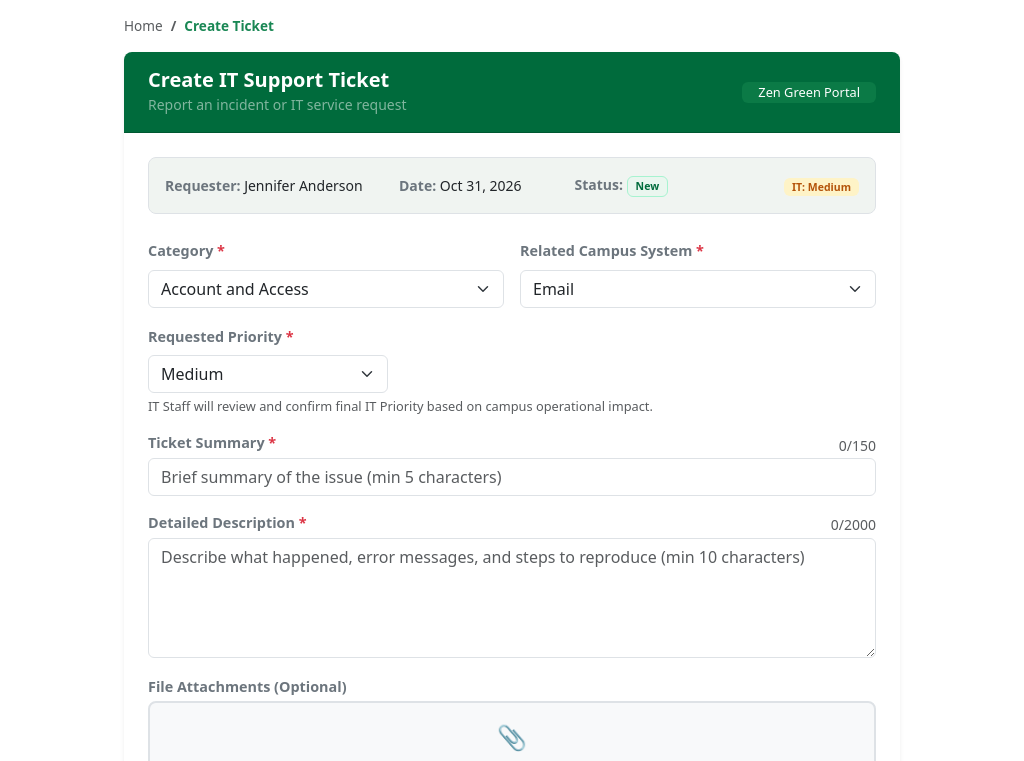
Test case: CreateTicket Component Tests (UI-02, UI-03, UI-04) › successfully creates a ticket and renders the official ticket number view
Expected: the dropdown showing "Account and Access" is shown, left=148, top=270, right=504, bottom=308
Type "Keyboard not working properly" into the field with test id "summary-input".
click(512, 477); type("Keyboard not working properly")  # box left=148, top=458, right=876, bottom=496
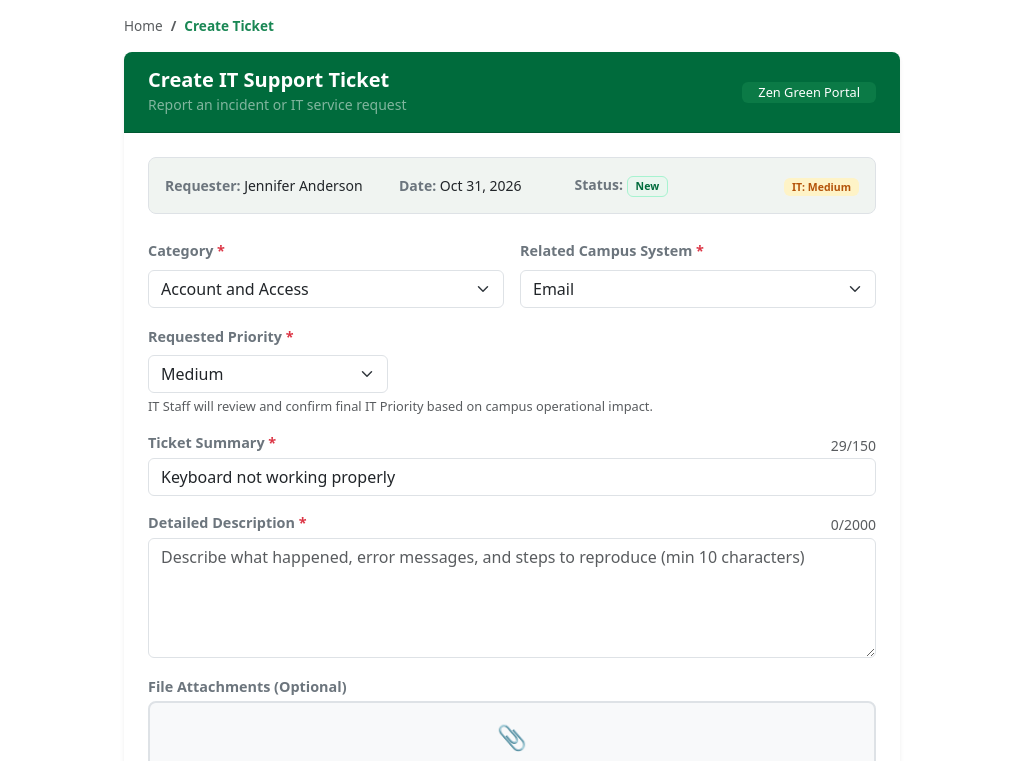
Replace the text in the text box with test id "description-input" with "Keys are sticking and unresponsive." at (512, 598), box left=148, top=538, right=876, bottom=658
(page scrolled)
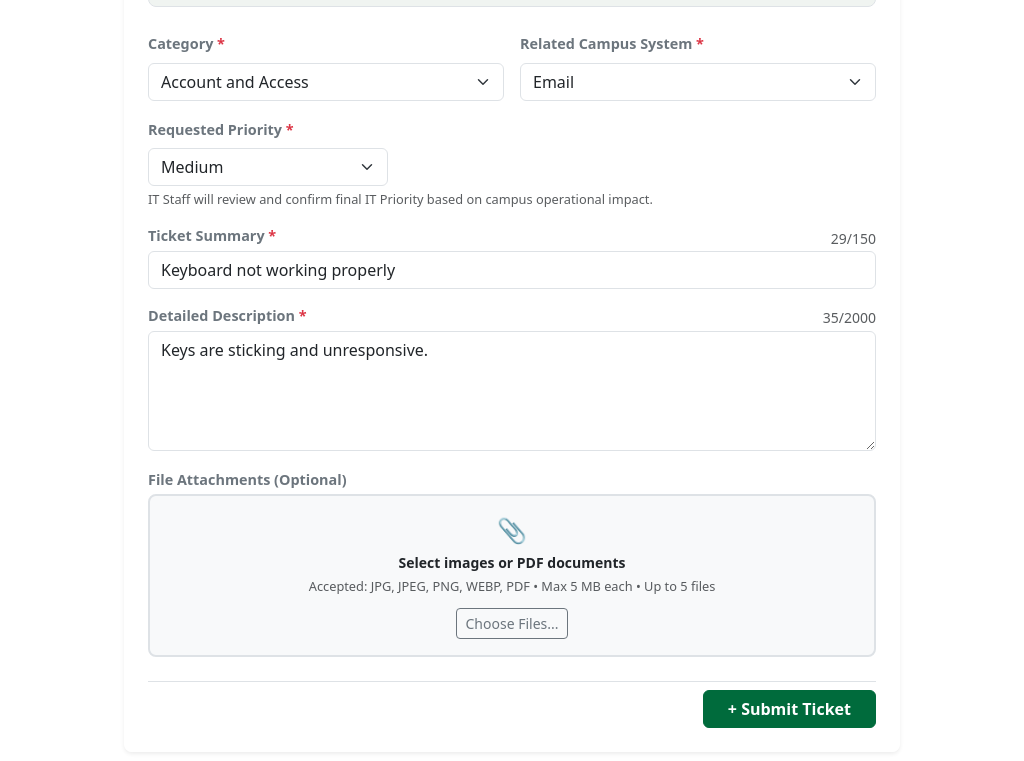
Click the button with test id "submit-ticket-btn".
click(789, 709)  # box left=703, top=690, right=876, bottom=728
(page scrolled)
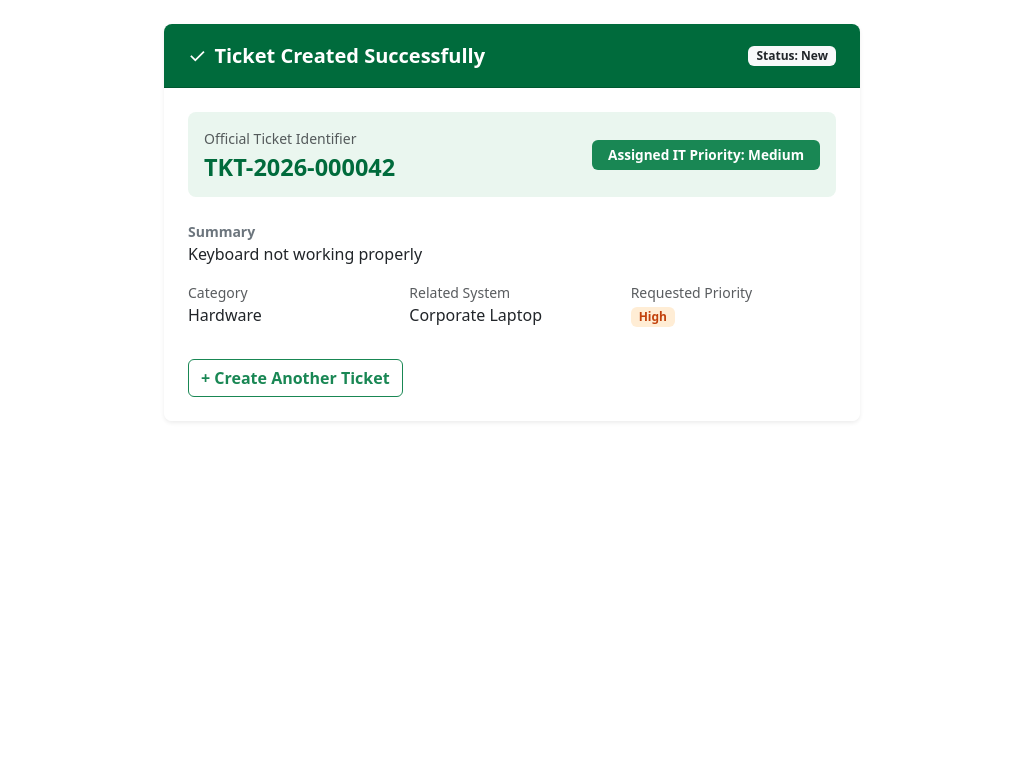
Expected: the heading "Ticket Created Successfully" is shown, left=214, top=44, right=485, bottom=68
Expected: the text with test id "created-ticket-number" reads "TKT-2026-000042", left=204, top=151, right=395, bottom=183
